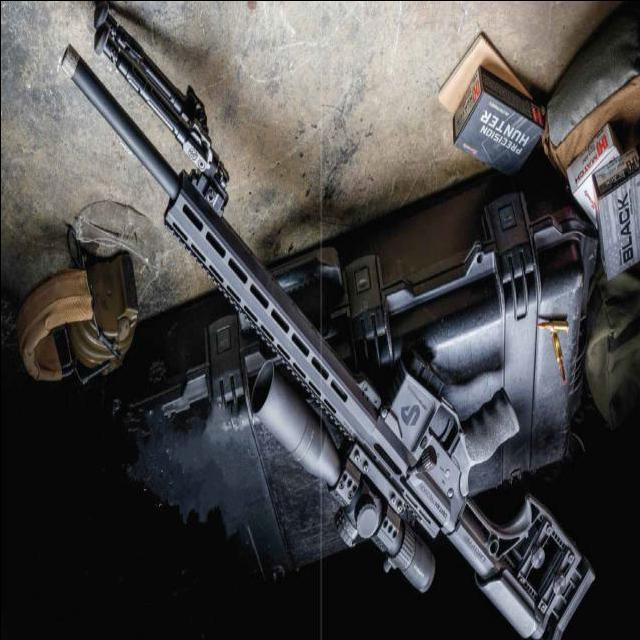scope: (247, 340, 440, 615)
sniper rifle: (29, 9, 612, 640)
